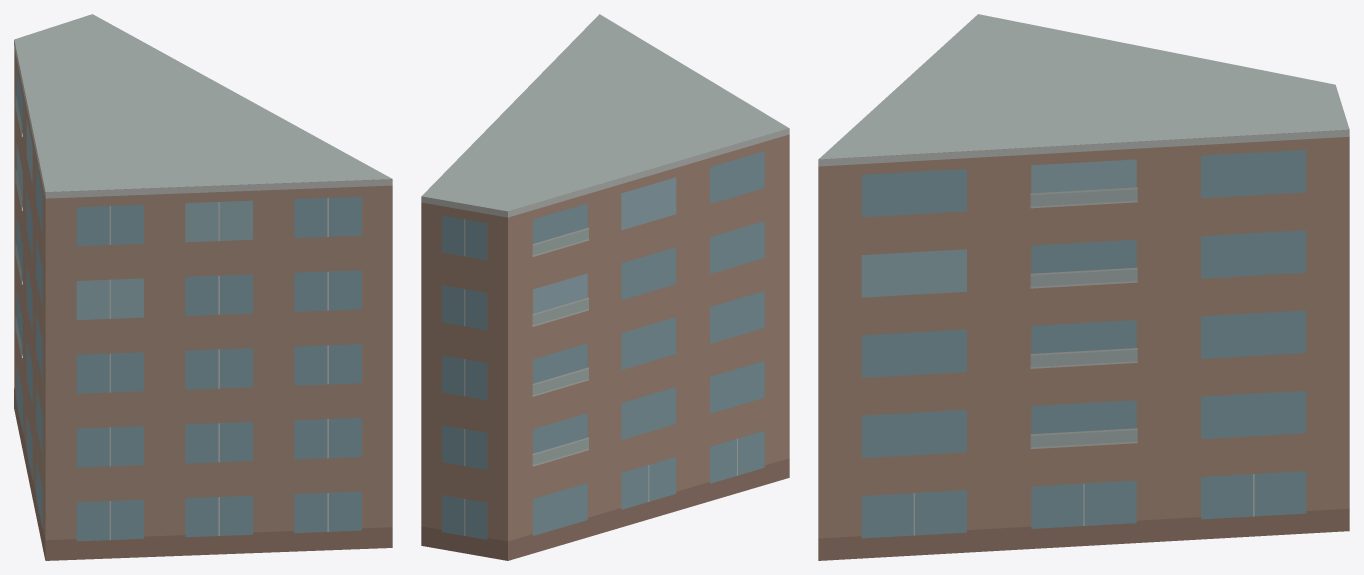
File: survey-upis-32533122.glb
3 renders of one model, left to right at view 1: azimuth 30°, elevation 25°; view 2: azimuth 150°, elevation 25°; view 3: azimuth 270°, elevation 25°, orthographic. The views are drawn at different scales.
Visible parts, largest first — view 1: survey-upis-32533122.tmp; view 2: survey-upis-32533122.tmp; view 3: survey-upis-32533122.tmp.
Boxes of the visible parts, box(x1,y1,x2,y2) form: survey-upis-32533122.tmp: box(14, 14, 392, 560); survey-upis-32533122.tmp: box(421, 14, 789, 560); survey-upis-32533122.tmp: box(818, 14, 1349, 560).
Bounding box in the file's own units: 10.74 × 13.8 × 16.57.
